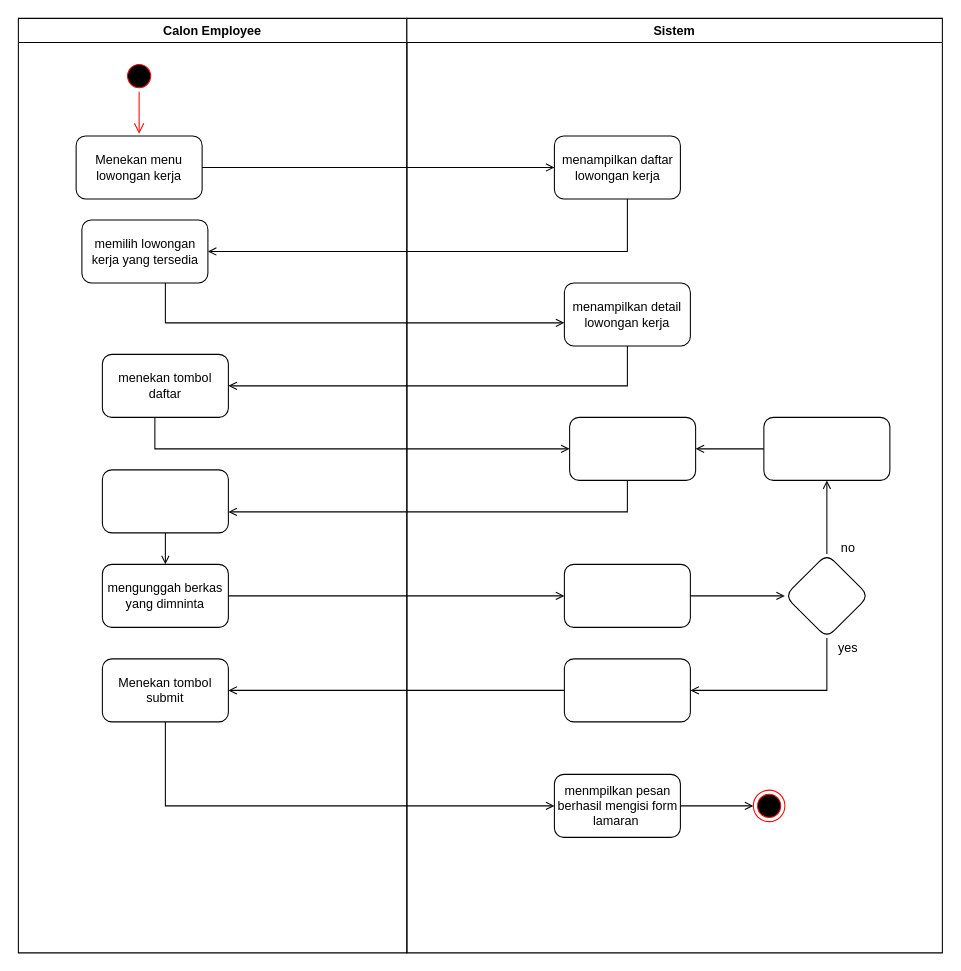
This 961x971 diagram has some shape labels left out. The shapes that lost their labels are listed below. From the top down, each one's box as (x1, y1, x2, y2) in pixels, then its label:
(569, 416, 696, 480): memnpilka form pemdaftaran
(763, 416, 890, 480): menampilkan pesan berkas tidak berhasil dunggah
(101, 469, 228, 533): mengisi biodata diri
(563, 563, 690, 627): melakukan pemeriksaan ukuran berkas
(563, 658, 690, 722): menpilkan pesan berkas berhasil diunggah
